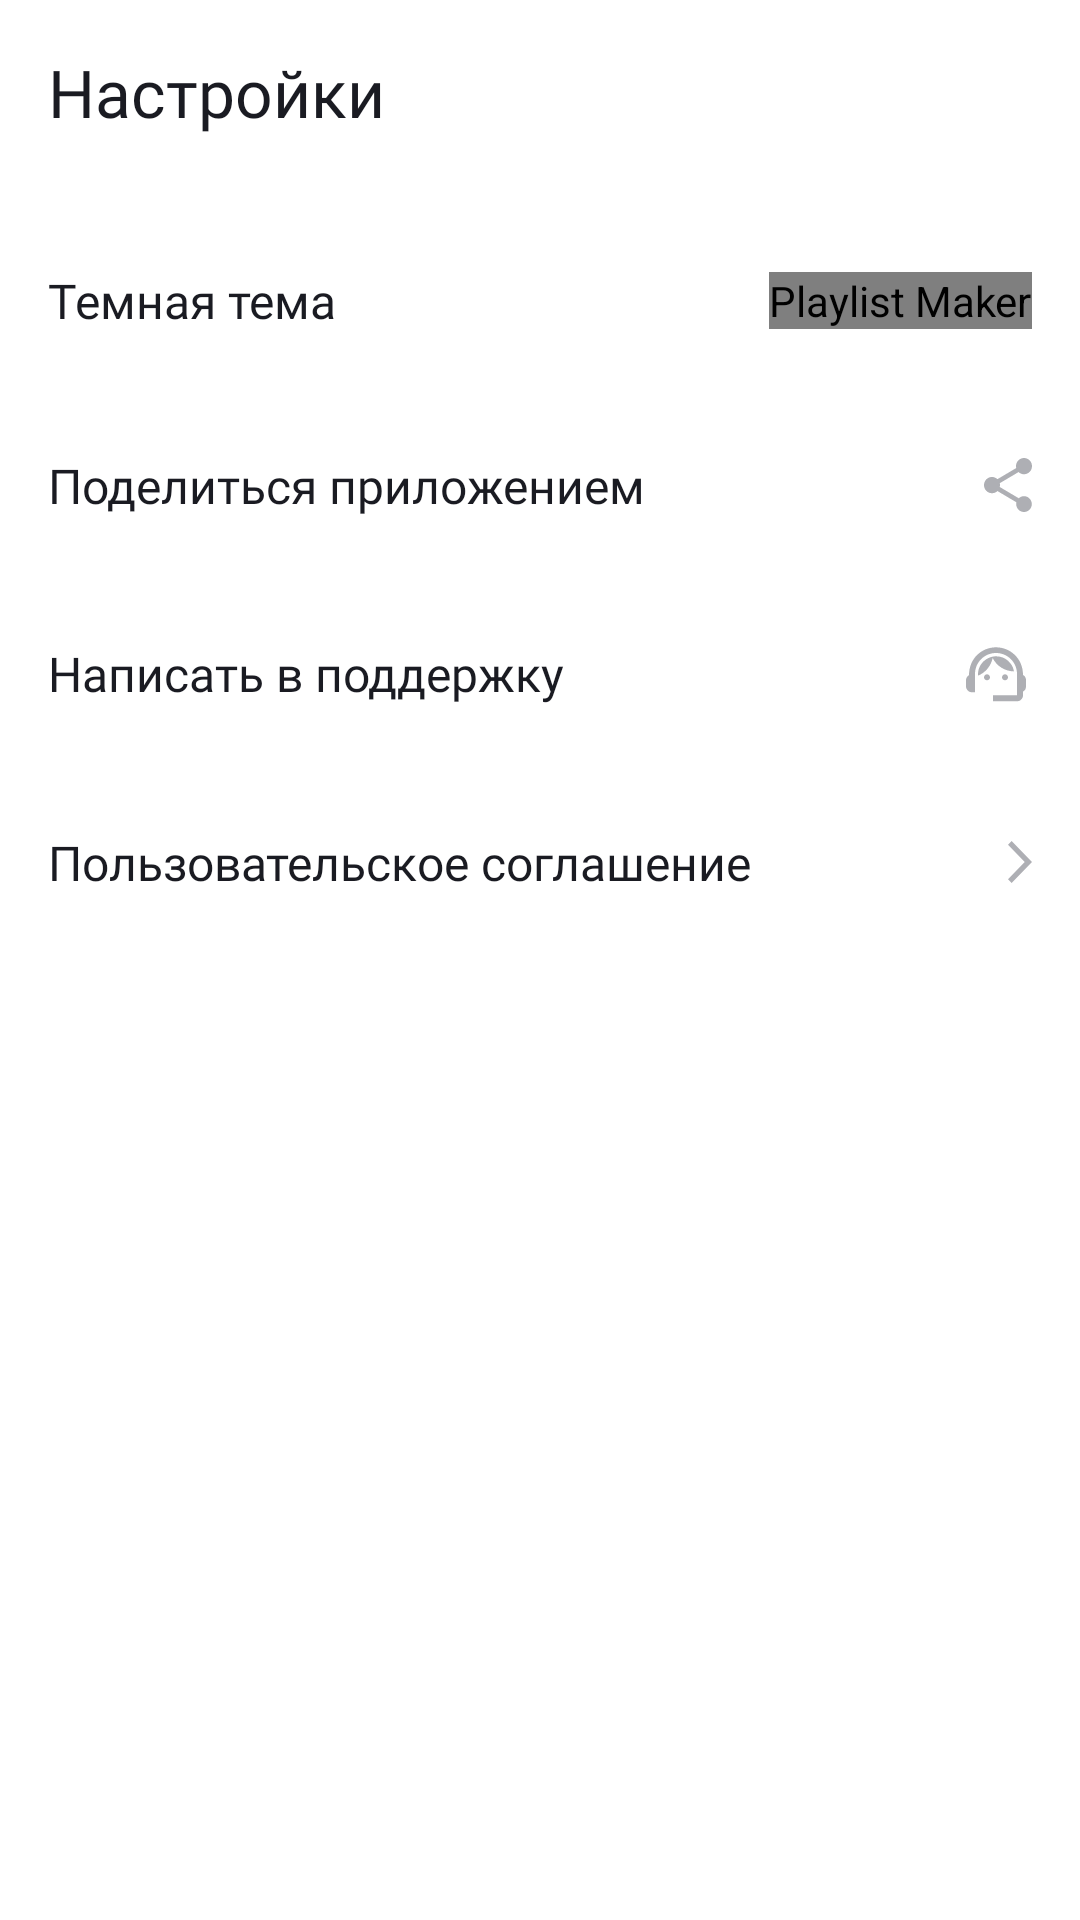

Icon click points for this 1080 x 1920 phone screenshot, format [x,y]:
arrow forward: [1020,862]
share: [1008,485]
support: [996,674]
